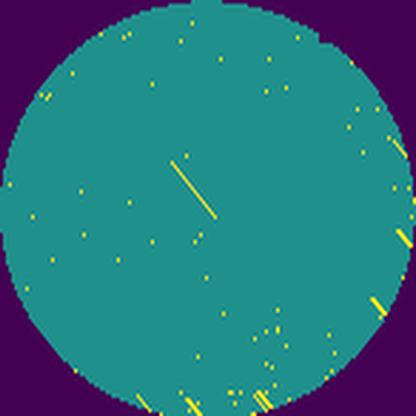Scratch: (165, 156, 222, 226)
